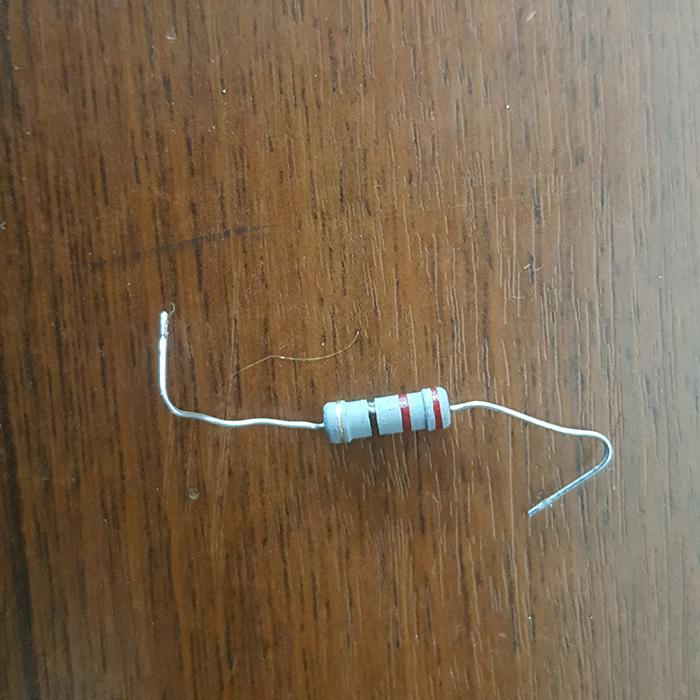resistor: (320, 383, 455, 444)
